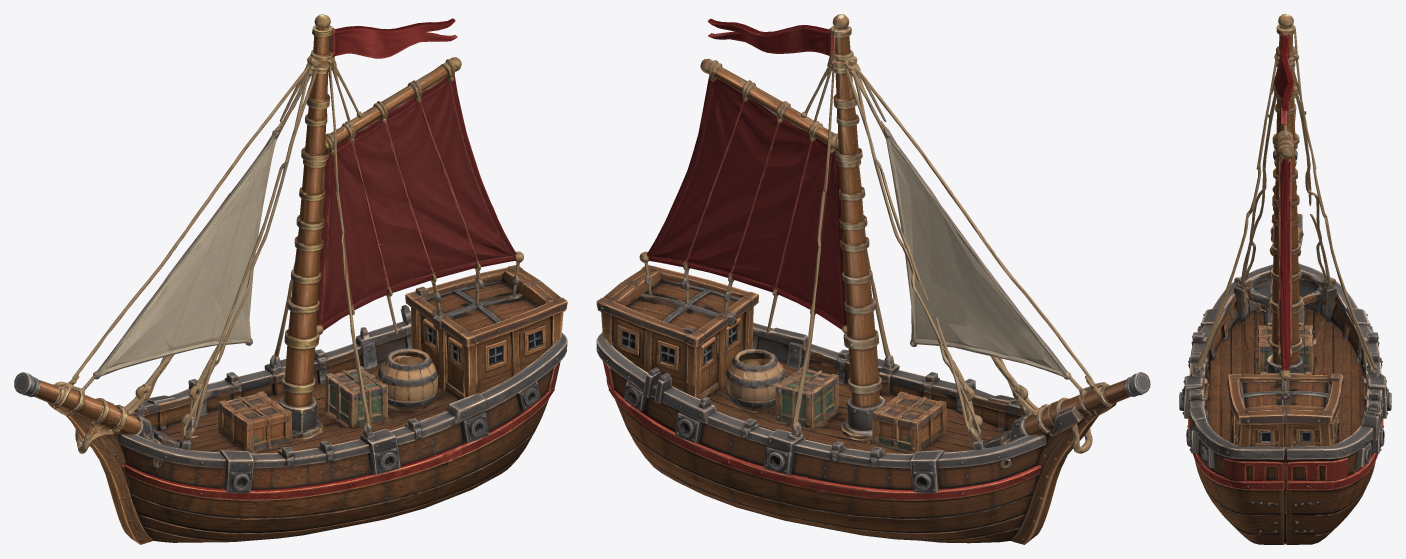
Rendered from crimson_voyager.glb.
3 views of the same model, side by side, from view 1: azimuth 30°, elevation 25°; view 2: azimuth 150°, elevation 25°; view 3: azimuth 270°, elevation 25° (orthographic). The views are drawn at different scales.
Parts seen in each view (by area): view 1: output_unwrapped; view 2: output_unwrapped; view 3: output_unwrapped.
Part boxes in pixels (left/top/right/bottom): output_unwrapped: left=14, top=14, right=567, bottom=544; output_unwrapped: left=596, top=14, right=1150, bottom=544; output_unwrapped: left=1179, top=14, right=1391, bottom=544.
Bounding box in the file's own units: 1.9 × 1.66 × 0.7091.
1 material, 1 textured.
